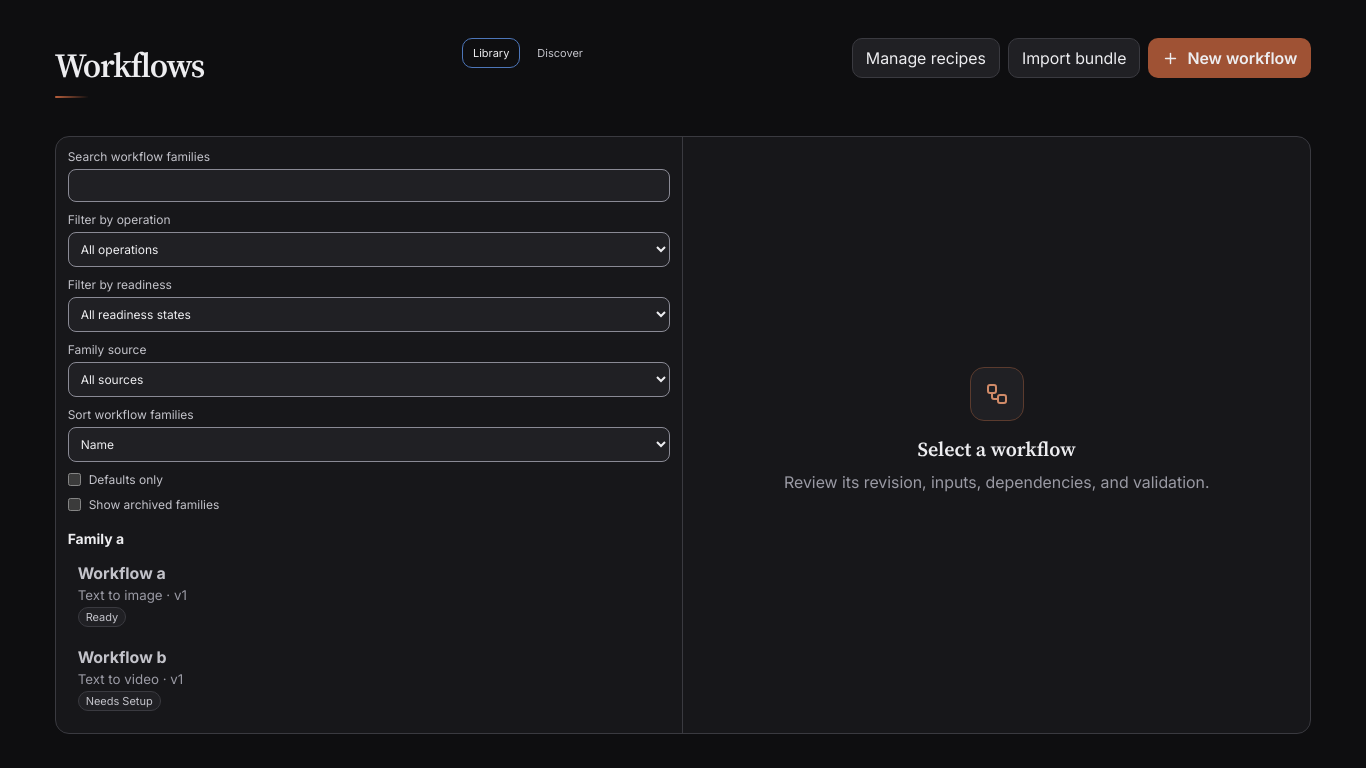
Test: browsing workflow families › requires combined filters to match the same variant
Expected: the heading "Family a" is shown, [68, 530, 124, 547]
Select "Text to video" in the dropdown labelled "Filter by operation": (369, 250) [68, 232, 670, 267]
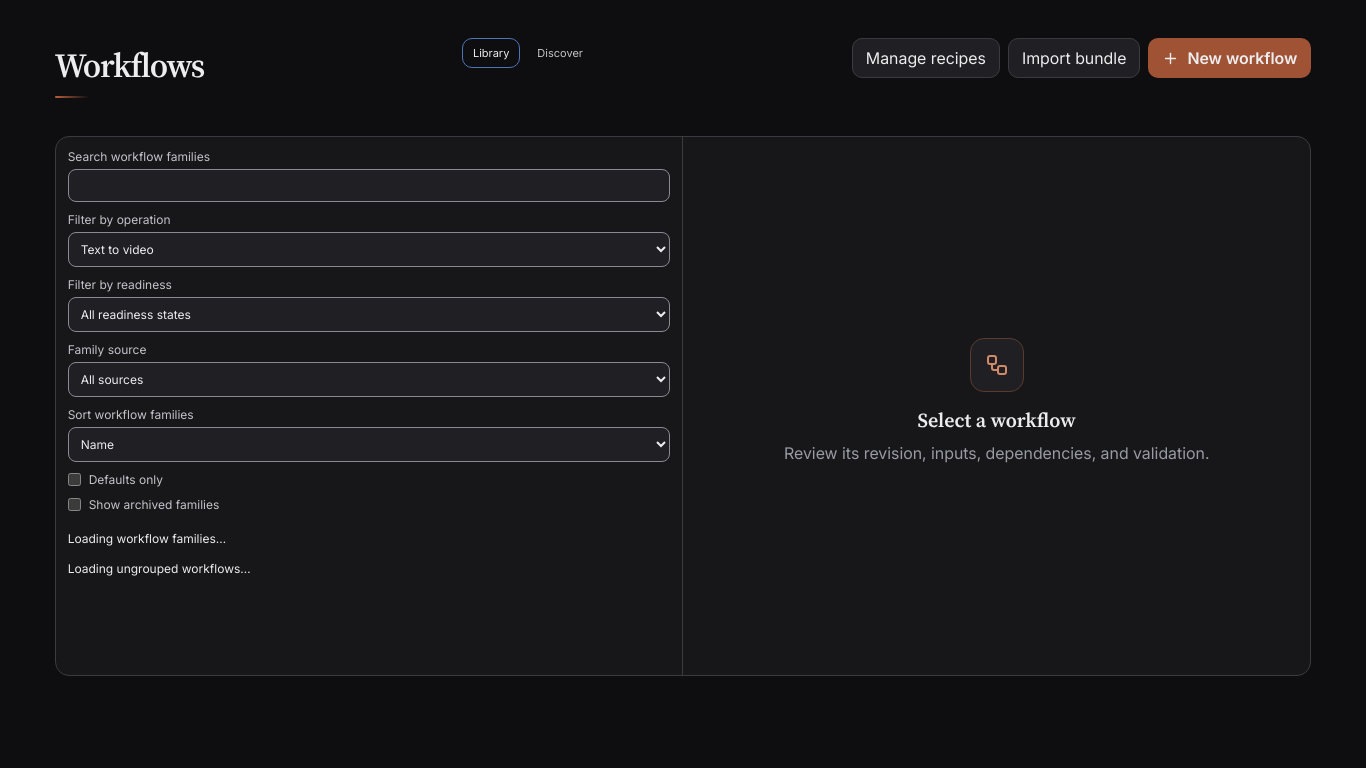
Select "Ready" in the dropdown labelled "Filter by readiness": (369, 314) [68, 297, 670, 332]
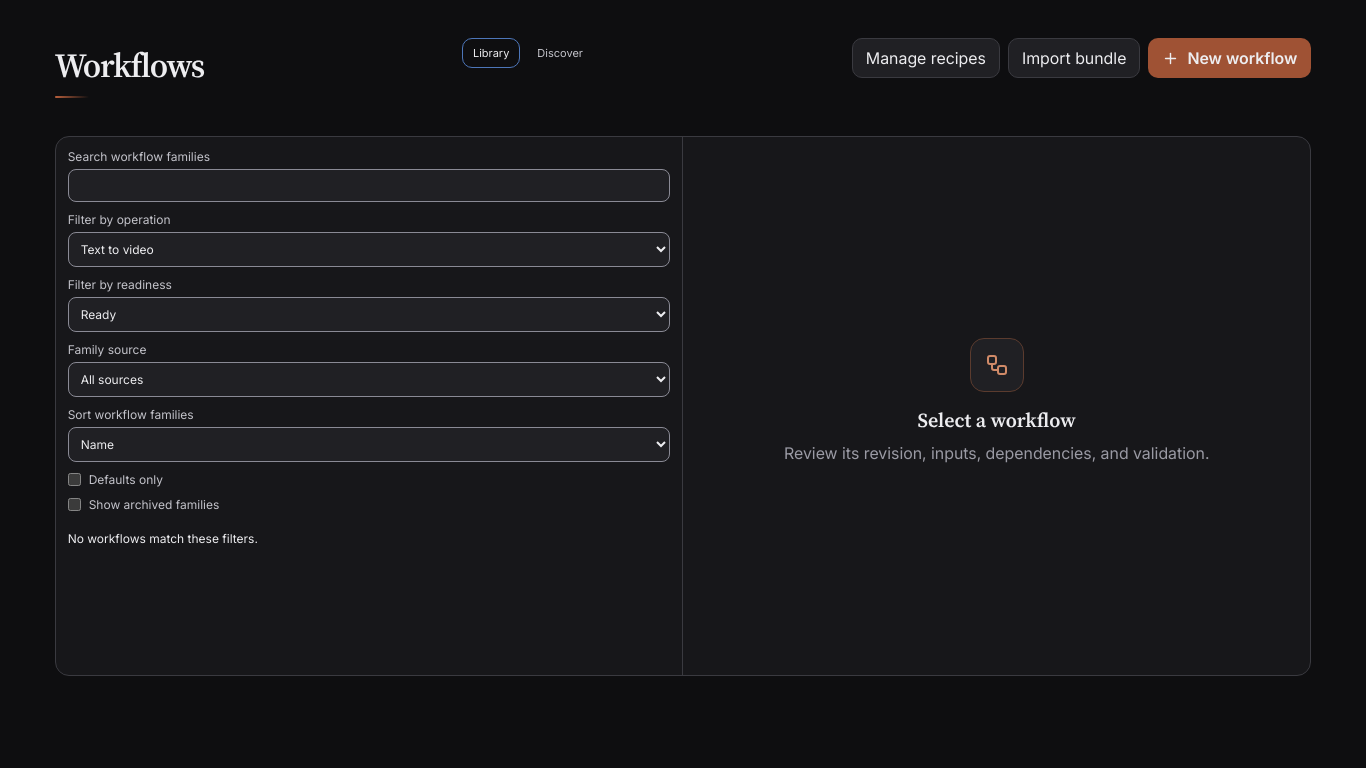
Expected: the heading "Family a" is not shown
Expected: the text "No workflows match these filters." is shown, [68, 531, 258, 546]
